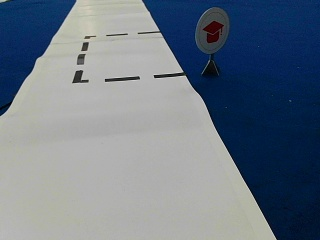school: (194, 6, 229, 53)
